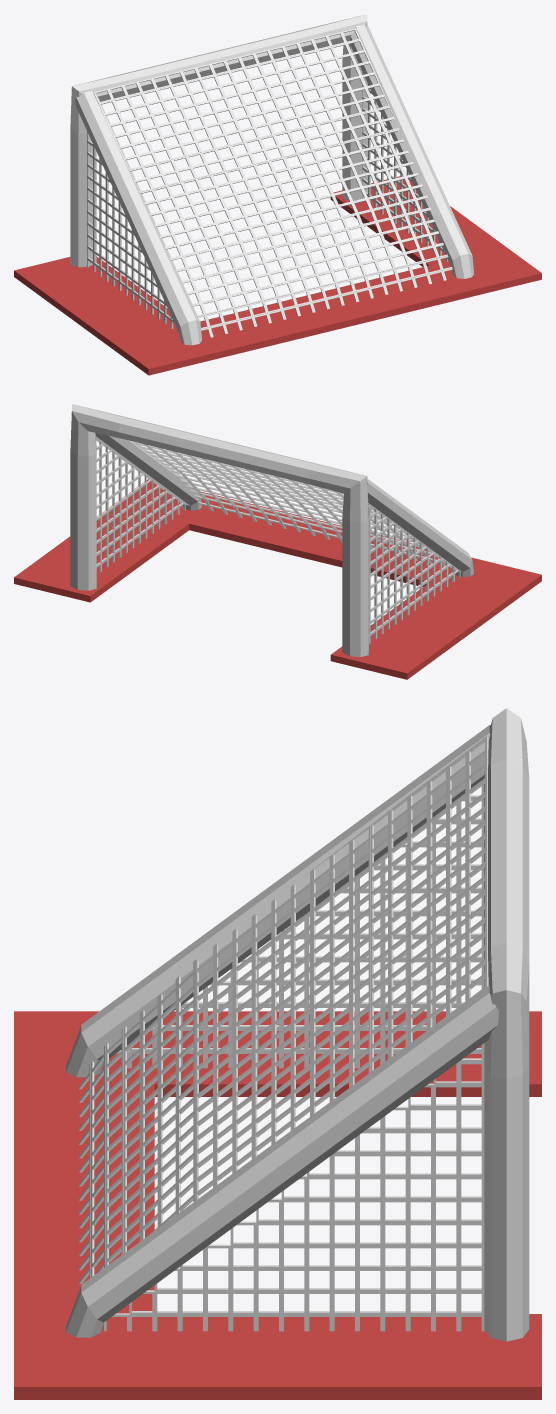
File: Water Polo Goal.fbx
3 views of the same model, one above another, from view 1: azimuth 30°, elevation 25°; view 2: azimuth 150°, elevation 25°; view 3: azimuth 270°, elevation 25° (orthographic). The views are drawn at different scales.
Parts seen in each view (by area): view 1: Water Polo Goals, Back Net, Left Net, Right Net; view 2: Water Polo Goals, Back Net, Left Net, Right Net; view 3: Water Polo Goals, Back Net, Right Net, Left Net.
Boxes of the visible parts, bbox=[...] form: Water Polo Goals: bbox=[14, 14, 541, 375]; Back Net: bbox=[93, 28, 452, 337]; Left Net: bbox=[87, 131, 178, 333]; Right Net: bbox=[362, 72, 448, 261]; Water Polo Goals: bbox=[14, 404, 541, 679]; Back Net: bbox=[133, 441, 445, 566]; Left Net: bbox=[368, 504, 460, 643]; Right Net: bbox=[96, 442, 185, 571]; Water Polo Goals: bbox=[14, 708, 541, 1399]; Back Net: bbox=[79, 736, 488, 1283]; Right Net: bbox=[104, 1043, 484, 1331]; Left Net: bbox=[116, 784, 484, 1068].
Bounding box in the file's own units: 1264 × 569 × 750.
